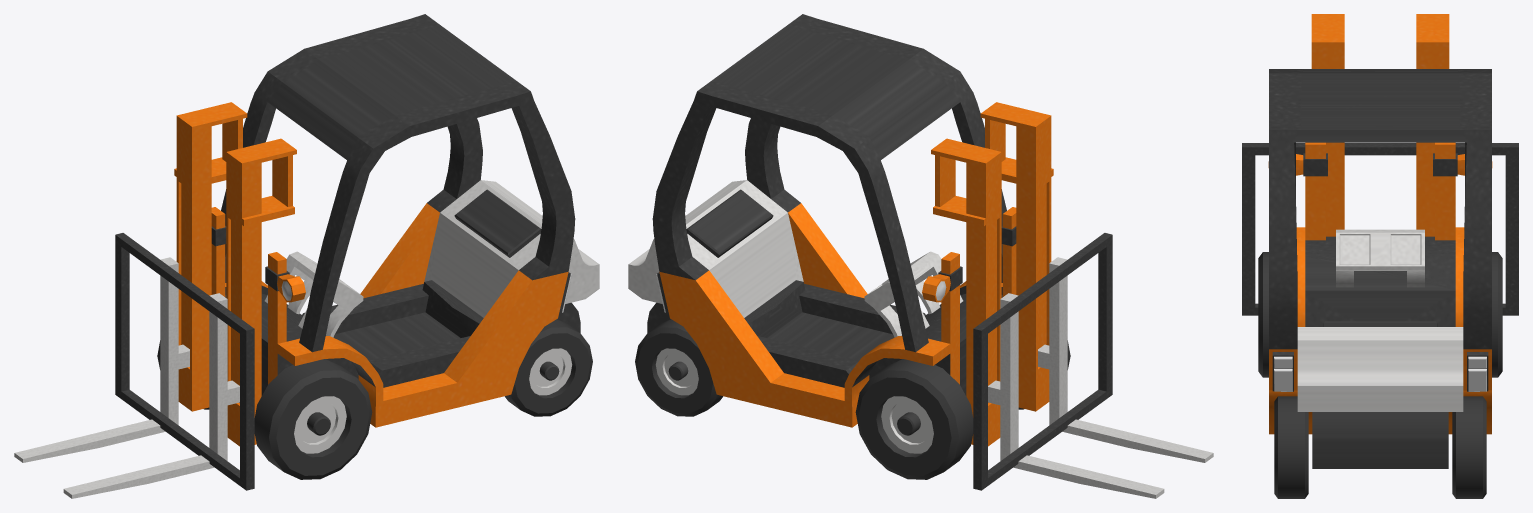
The model's file is Forklift.fbx.
The picture shows the model from 3 angles, left to right: view 1: azimuth 30°, elevation 25°; view 2: azimuth 150°, elevation 25°; view 3: azimuth 270°, elevation 25°; orthographic projection. The views are drawn at different scales.
Parts seen in each view (by area): view 1: Base, Lifter, Wheel_Front_Left, Wheel_Rear_Left; view 2: Base, Lifter, Wheel_Front_Right, Wheel_Rear_Right; view 3: Base, Lifter, Wheel_Rear_Right, Wheel_Rear_Left, Wheel_Front_Right, Wheel_Front_Left.
Part boxes in pixels (<box>): Base: <box>174,14,599,446</box>; Lifter: <box>14,233,254,498</box>; Wheel_Front_Left: <box>254,359,372,479</box>; Wheel_Rear_Left: <box>505,319,592,416</box>; Base: <box>628,14,1053,446</box>; Lifter: <box>973,233,1213,498</box>; Wheel_Front_Right: <box>855,359,973,479</box>; Wheel_Rear_Right: <box>635,319,722,416</box>; Base: <box>1268,14,1492,468</box>; Lifter: <box>1242,143,1518,315</box>; Wheel_Rear_Right: <box>1452,396,1486,498</box>; Wheel_Rear_Left: <box>1274,396,1308,498</box>; Wheel_Front_Right: <box>1492,252,1502,377</box>; Wheel_Front_Left: <box>1258,252,1268,377</box>.
Bounding box in the file's own units: 340 × 210 × 150.
